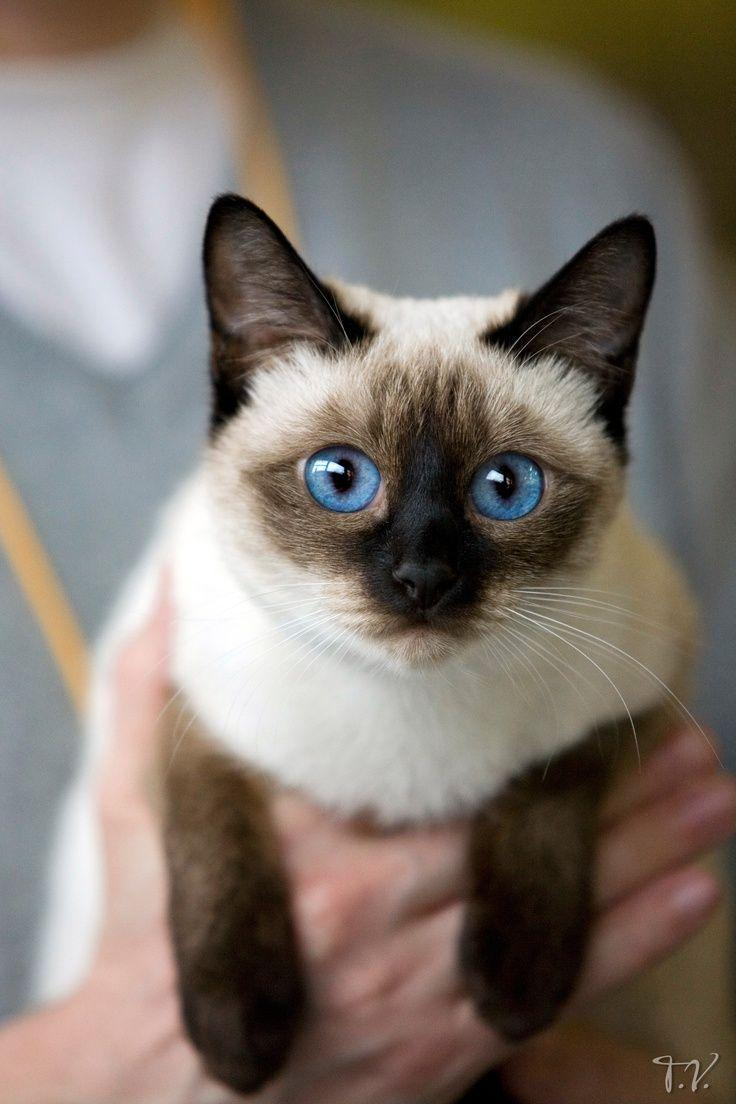siamese: (191, 181, 684, 691)
